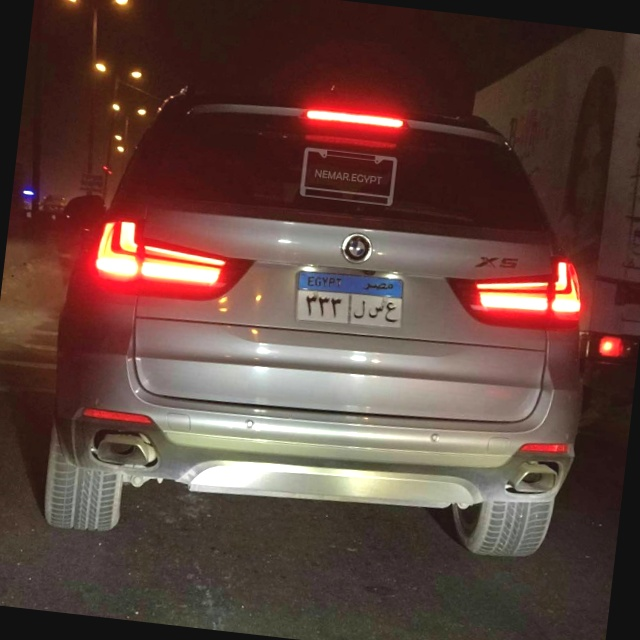License Plate: (290, 265, 409, 335)
